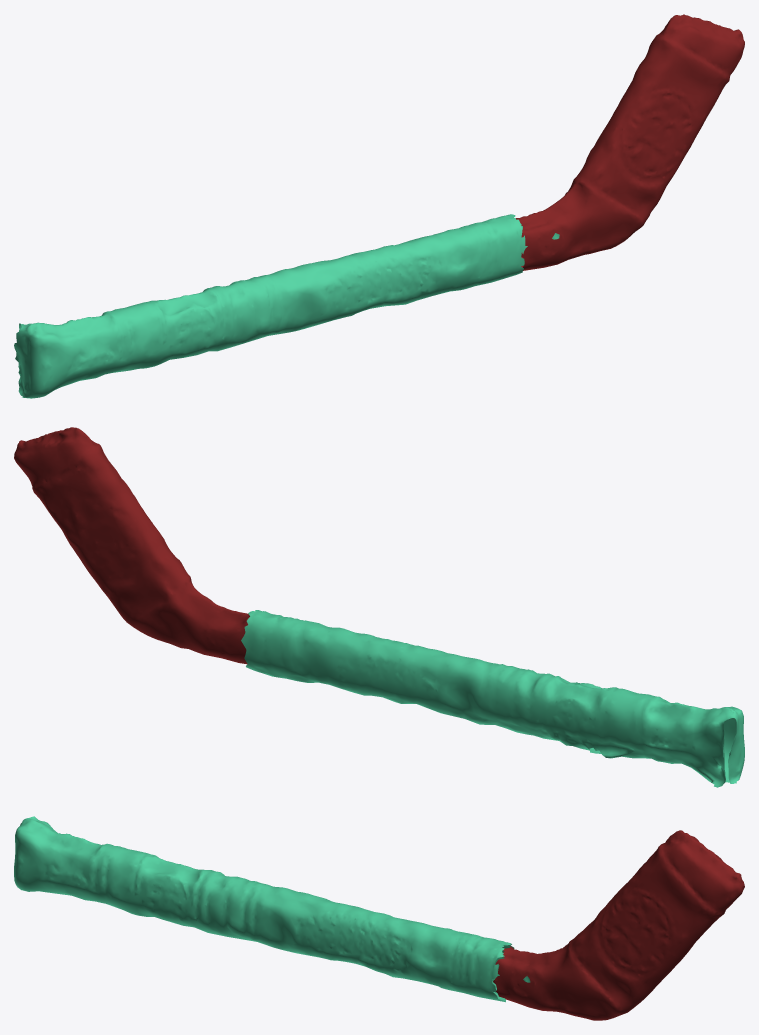
The model's file is object_deformed_5.obj.
The picture shows the model from 3 angles, top to bottom: view 1: azimuth 30°, elevation 25°; view 2: azimuth 150°, elevation 25°; view 3: azimuth 330°, elevation 25°; orthographic projection. The views are drawn at different scales.
Bounding box in the file's own units: 0.6064 × 0.1681 × 0.0505.
